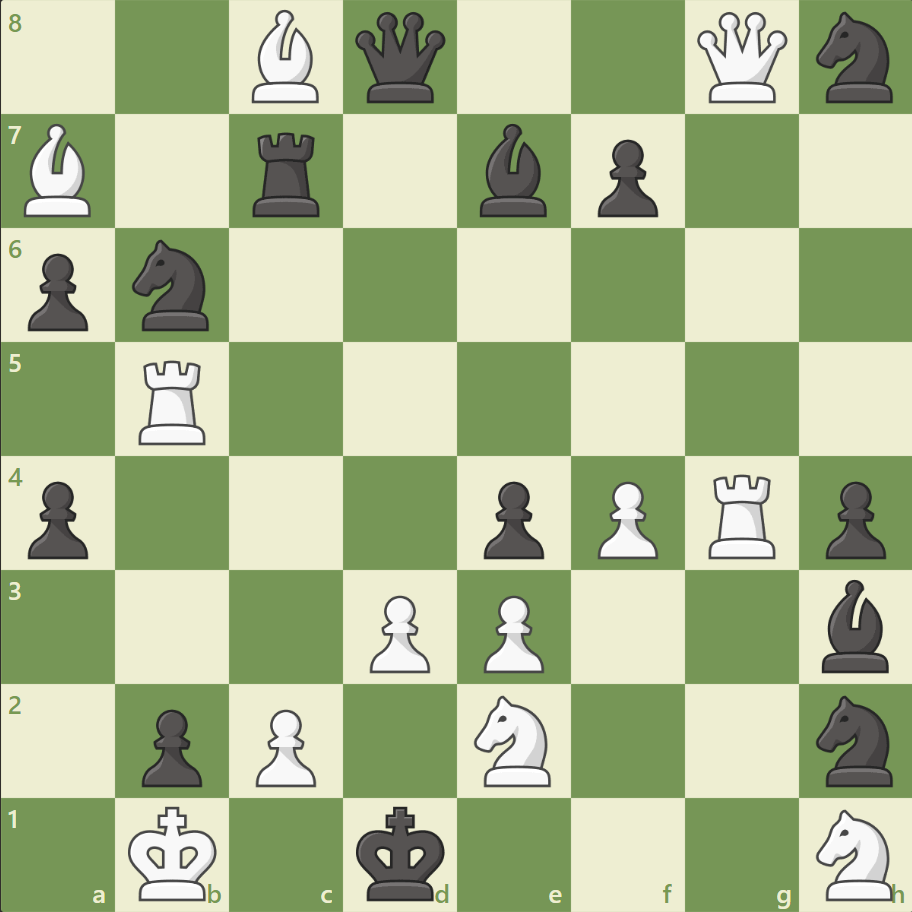B: (244, 6, 328, 109), (17, 120, 101, 222)
K: (124, 798, 224, 906)
N: (465, 688, 562, 791), (806, 802, 903, 904)
P: (474, 586, 549, 677), (247, 700, 322, 791), (588, 473, 662, 564), (361, 586, 435, 677)
Q: (691, 9, 790, 108)
R: (700, 466, 783, 563), (133, 352, 215, 449)
b: (471, 120, 555, 222), (812, 574, 896, 676)
k: (351, 798, 451, 906)
n: (124, 234, 222, 337), (806, 7, 903, 110), (806, 688, 903, 791)
p: (20, 246, 95, 337), (20, 473, 95, 564), (474, 473, 549, 564), (133, 700, 208, 791), (588, 132, 662, 223), (815, 473, 889, 564)
q: (351, 9, 450, 108)
r: (246, 125, 329, 222)
